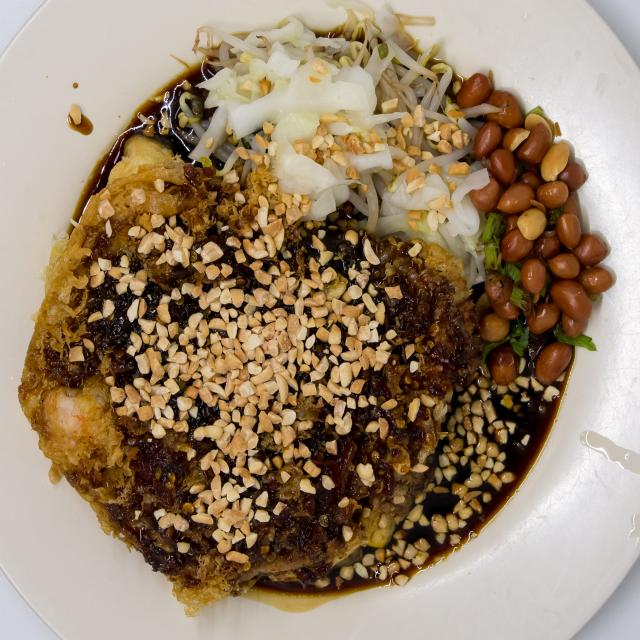Tahu-Telur: (31, 22, 616, 574)
